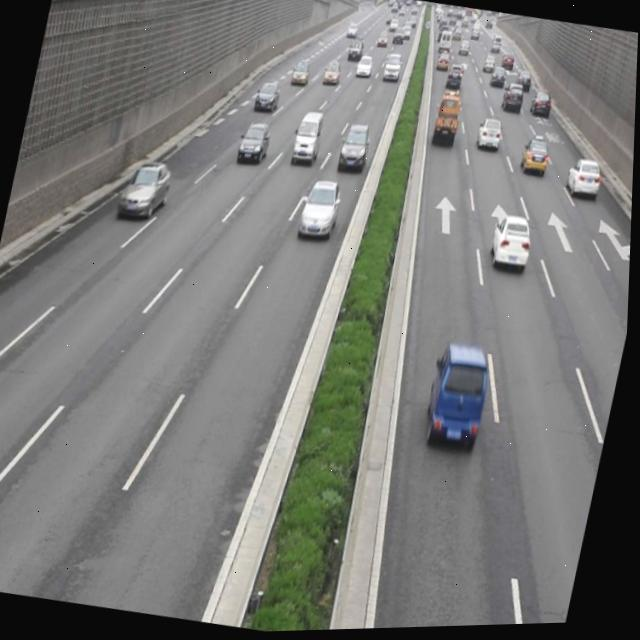bus: (431, 92, 464, 149)
car: (420, 342, 497, 454), (117, 157, 176, 224), (487, 214, 537, 278), (297, 180, 342, 242), (562, 157, 604, 207), (338, 123, 373, 174), (236, 120, 272, 165), (474, 117, 505, 158), (519, 142, 550, 179)
truck: (290, 110, 326, 167)
